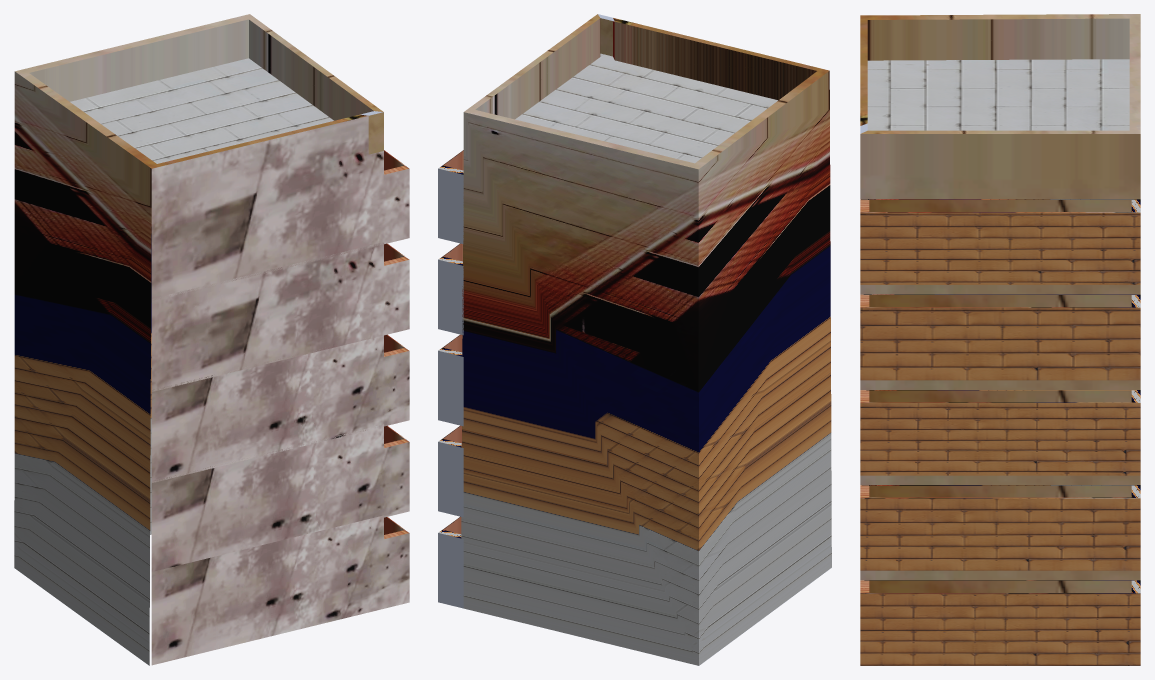
The model's file is Saitama Home.fbx.
3 views of the same model, side by side, from view 1: azimuth 30°, elevation 25°; view 2: azimuth 150°, elevation 25°; view 3: azimuth 270°, elevation 25° (orthographic). The views are drawn at different scales.
Visible parts, largest first — view 1: Saitama Home.004; view 2: Saitama Home.004; view 3: Saitama Home.004.
Part boxes in pixels (box(x1,y1,x2,y2)): Saitama Home.004: box(14, 14, 409, 665); Saitama Home.004: box(438, 14, 831, 665); Saitama Home.004: box(860, 14, 1140, 665).
Size of the model in its own units: 4498 by 8177 by 4000.
Materials: 1 (1 with a texture image).
